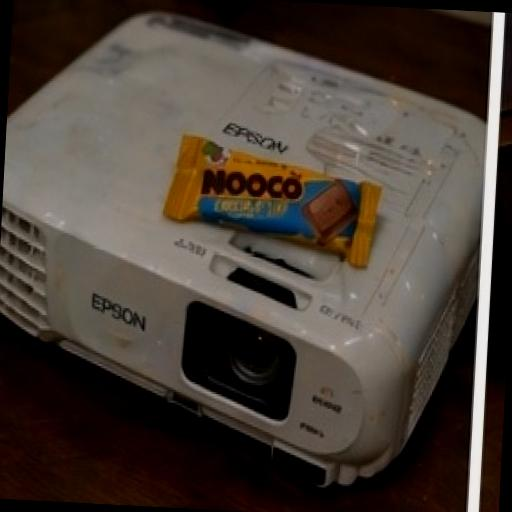nooco: (152, 106, 395, 292)
